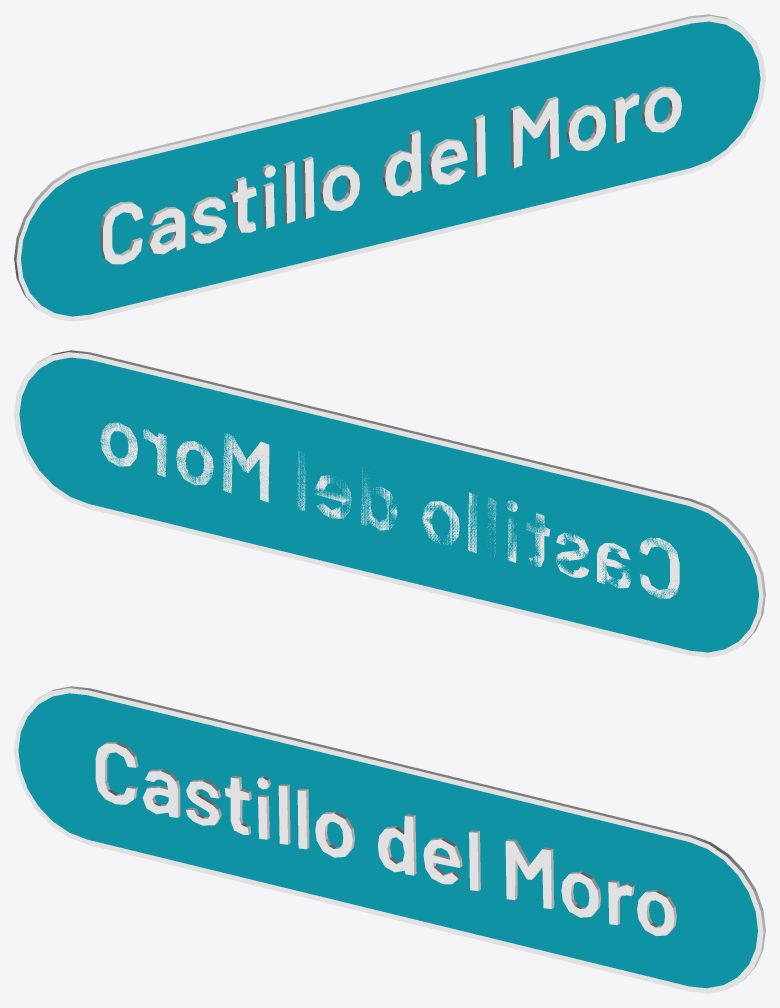
The model's file is castillodelmoro.obj.
3 renders of one model, top to bottom at view 1: azimuth 30°, elevation 25°; view 2: azimuth 150°, elevation 25°; view 3: azimuth 330°, elevation 25°, orthographic.
Visible parts, largest first — view 1: Entorno_45_Entorno_1__22782_, Texto_de_modelo_Texto_de_modelo_10__22770_, Entorno_46_Entorno_1__22794_; view 2: Entorno_45_Entorno_1__22782_, Entorno_46_Entorno_1__22794_, Texto_de_modelo_Texto_de_modelo_10__22770_; view 3: Entorno_45_Entorno_1__22782_, Texto_de_modelo_Texto_de_modelo_10__22770_, Entorno_46_Entorno_1__22794_.
Part boxes in pixels (left/top/right/bottom): Entorno_45_Entorno_1__22782_: left=21, top=21, right=760, bottom=316; Texto_de_modelo_Texto_de_modelo_10__22770_: left=100, top=86, right=681, bottom=264; Entorno_46_Entorno_1__22794_: left=14, top=14, right=765, bottom=321; Entorno_45_Entorno_1__22782_: left=19, top=357, right=758, bottom=652; Entorno_46_Entorno_1__22794_: left=14, top=350, right=765, bottom=657; Texto_de_modelo_Texto_de_modelo_10__22770_: left=100, top=422, right=679, bottom=598; Entorno_45_Entorno_1__22782_: left=18, top=693, right=757, bottom=988; Texto_de_modelo_Texto_de_modelo_10__22770_: left=95, top=742, right=676, bottom=935; Entorno_46_Entorno_1__22794_: left=14, top=686, right=765, bottom=993.
Bounding box in the file's own units: 20.75 × 4.09 × 0.2362.
